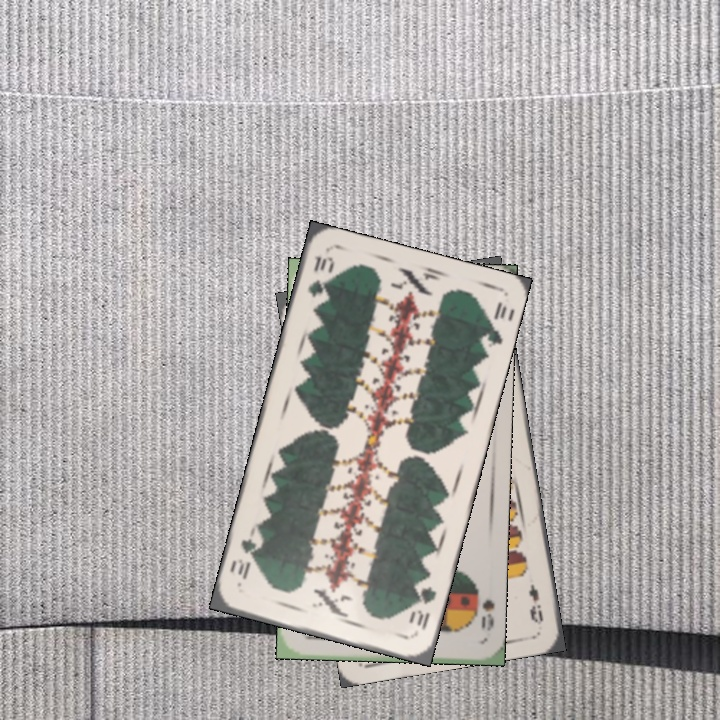E9: (524, 579, 546, 628)
G10: (405, 576, 439, 633), (303, 252, 336, 300)
SO: (477, 595, 497, 634)
